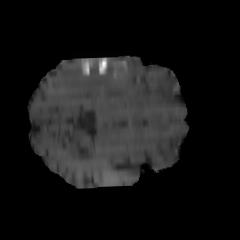glioma: (49, 53, 144, 97)
